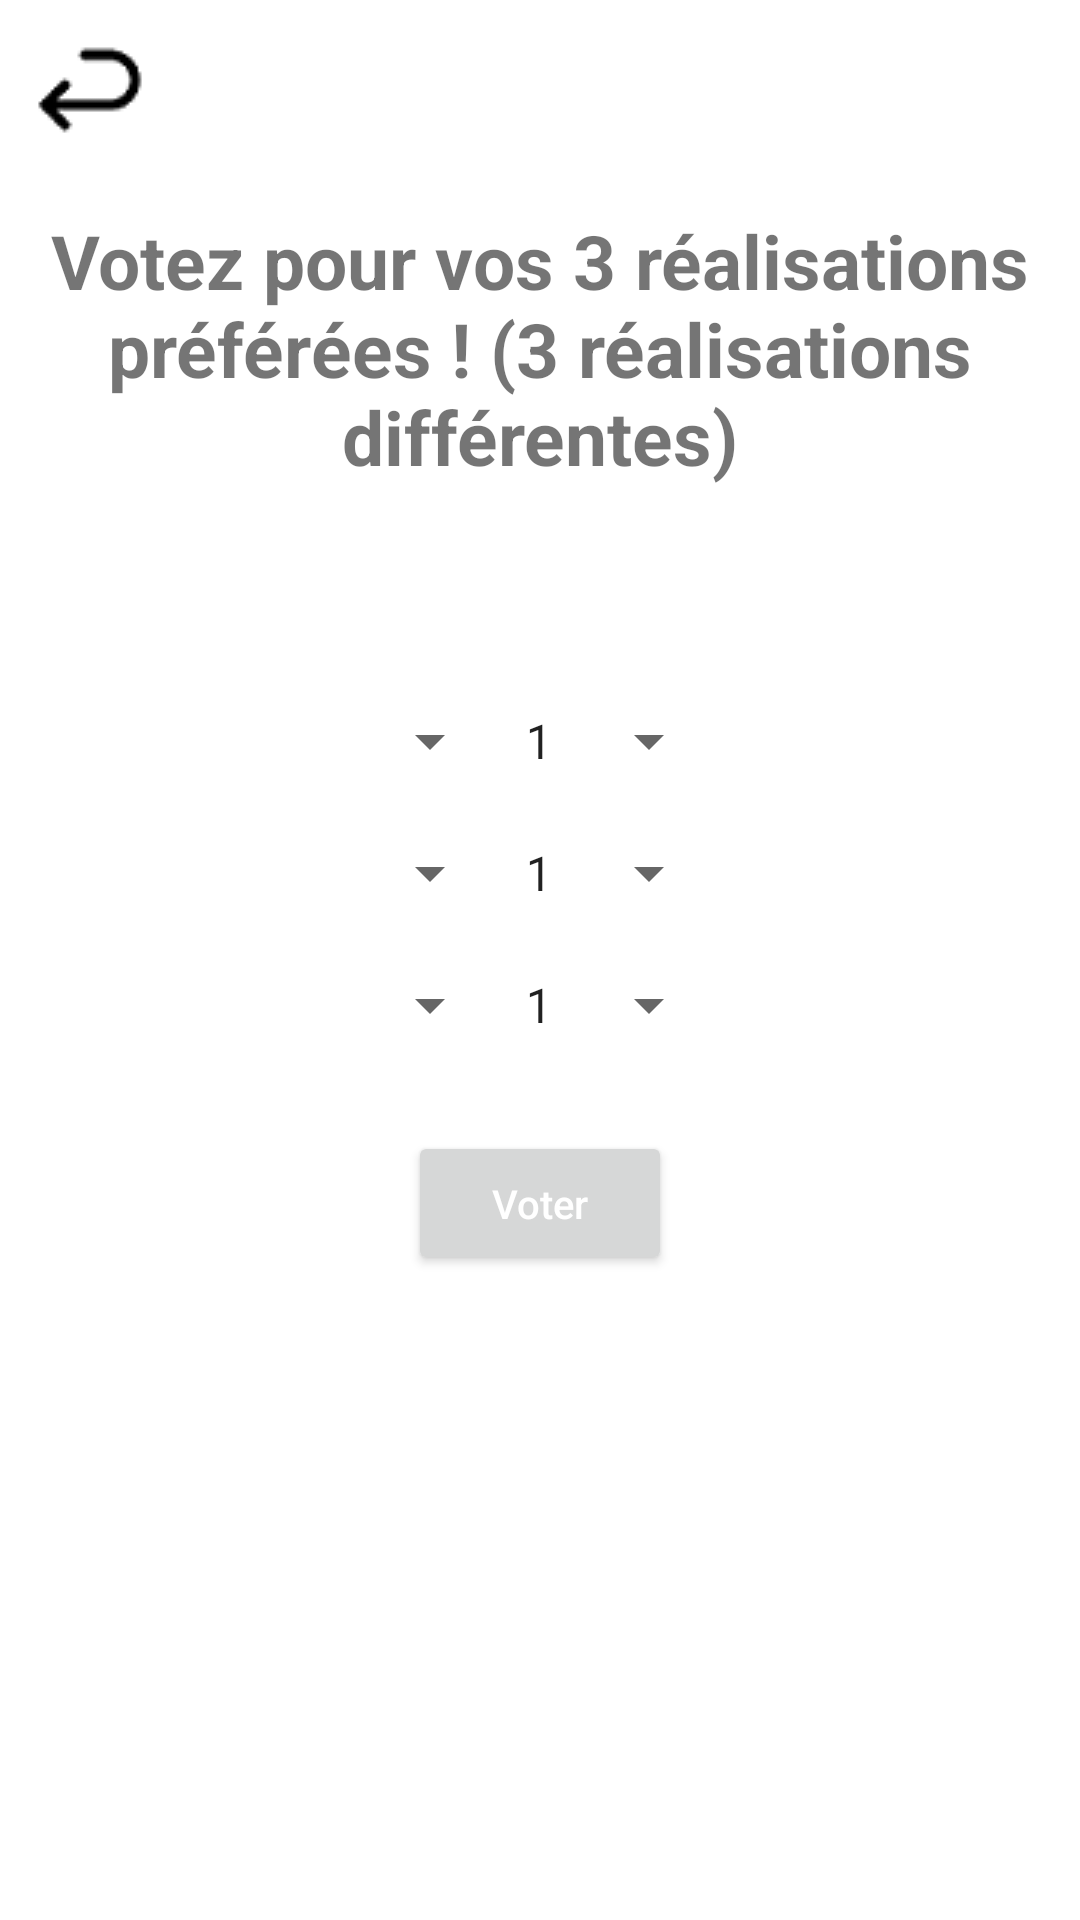

Screen size 1080 × 1920. Icon name, then its box in pixels as (x1, y1, x2, y2):
back arrow: (38, 47, 142, 133)
